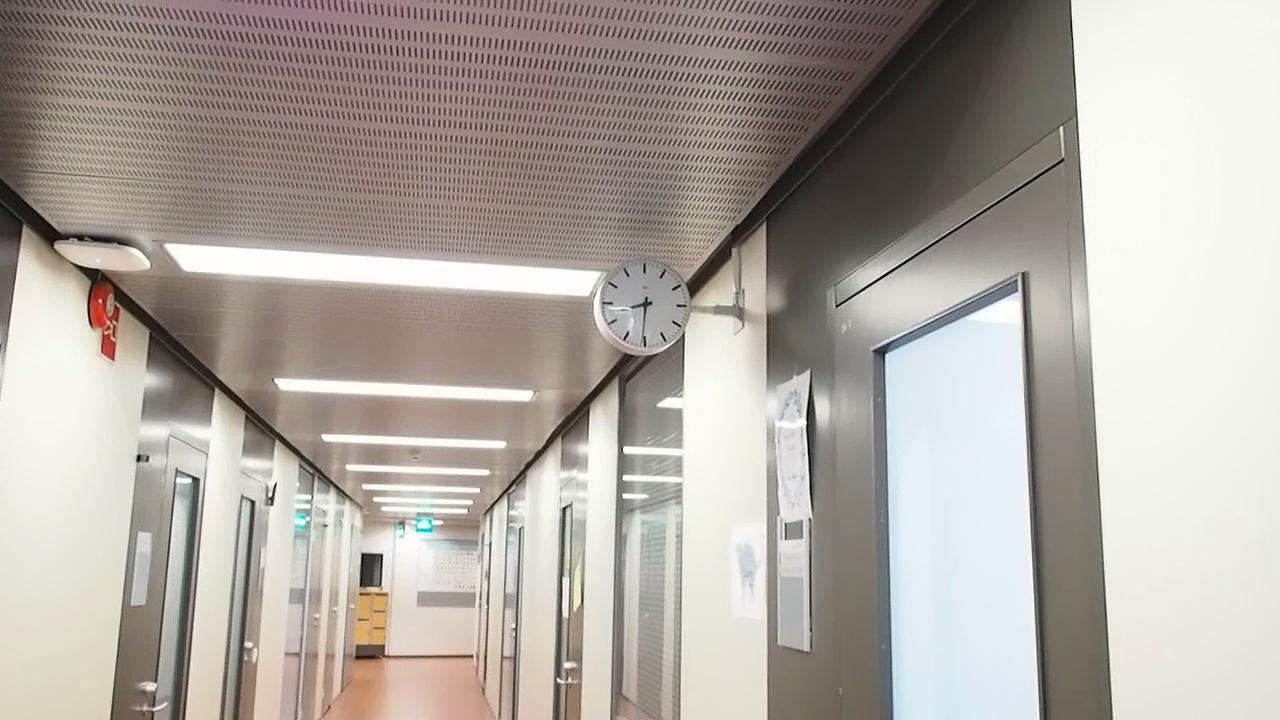clock: (594, 256, 695, 357)
